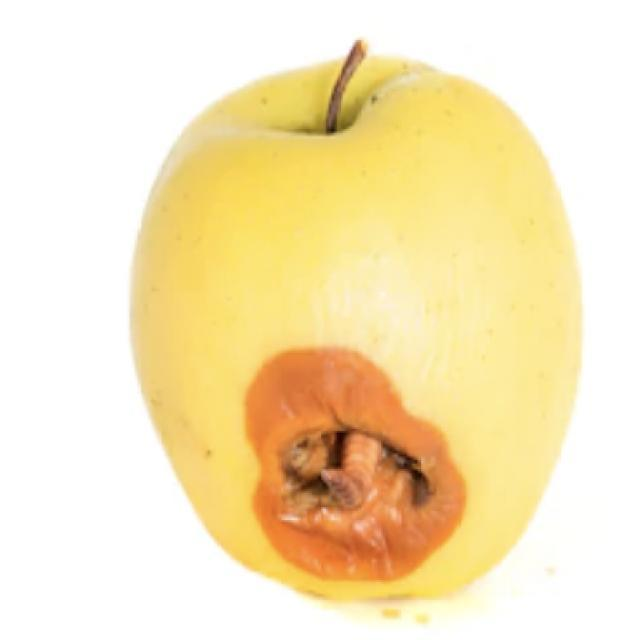Rotten: (145, 60, 578, 600)
